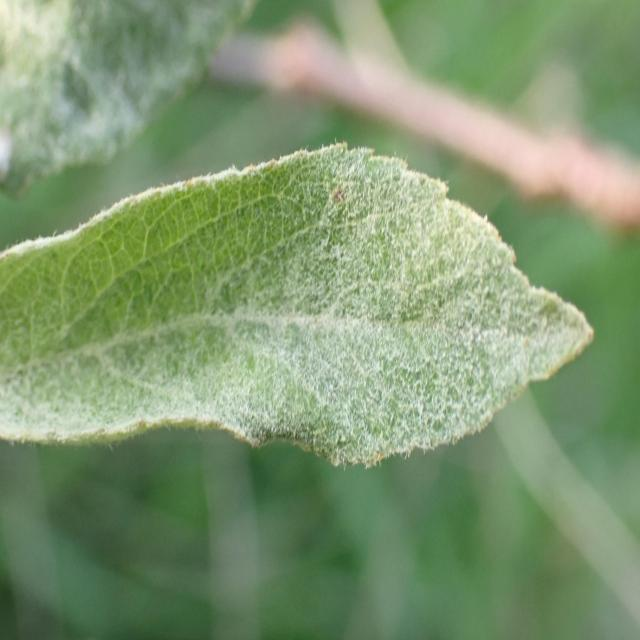Powdery_mildew: (0, 140, 592, 468), (0, 0, 290, 203)
